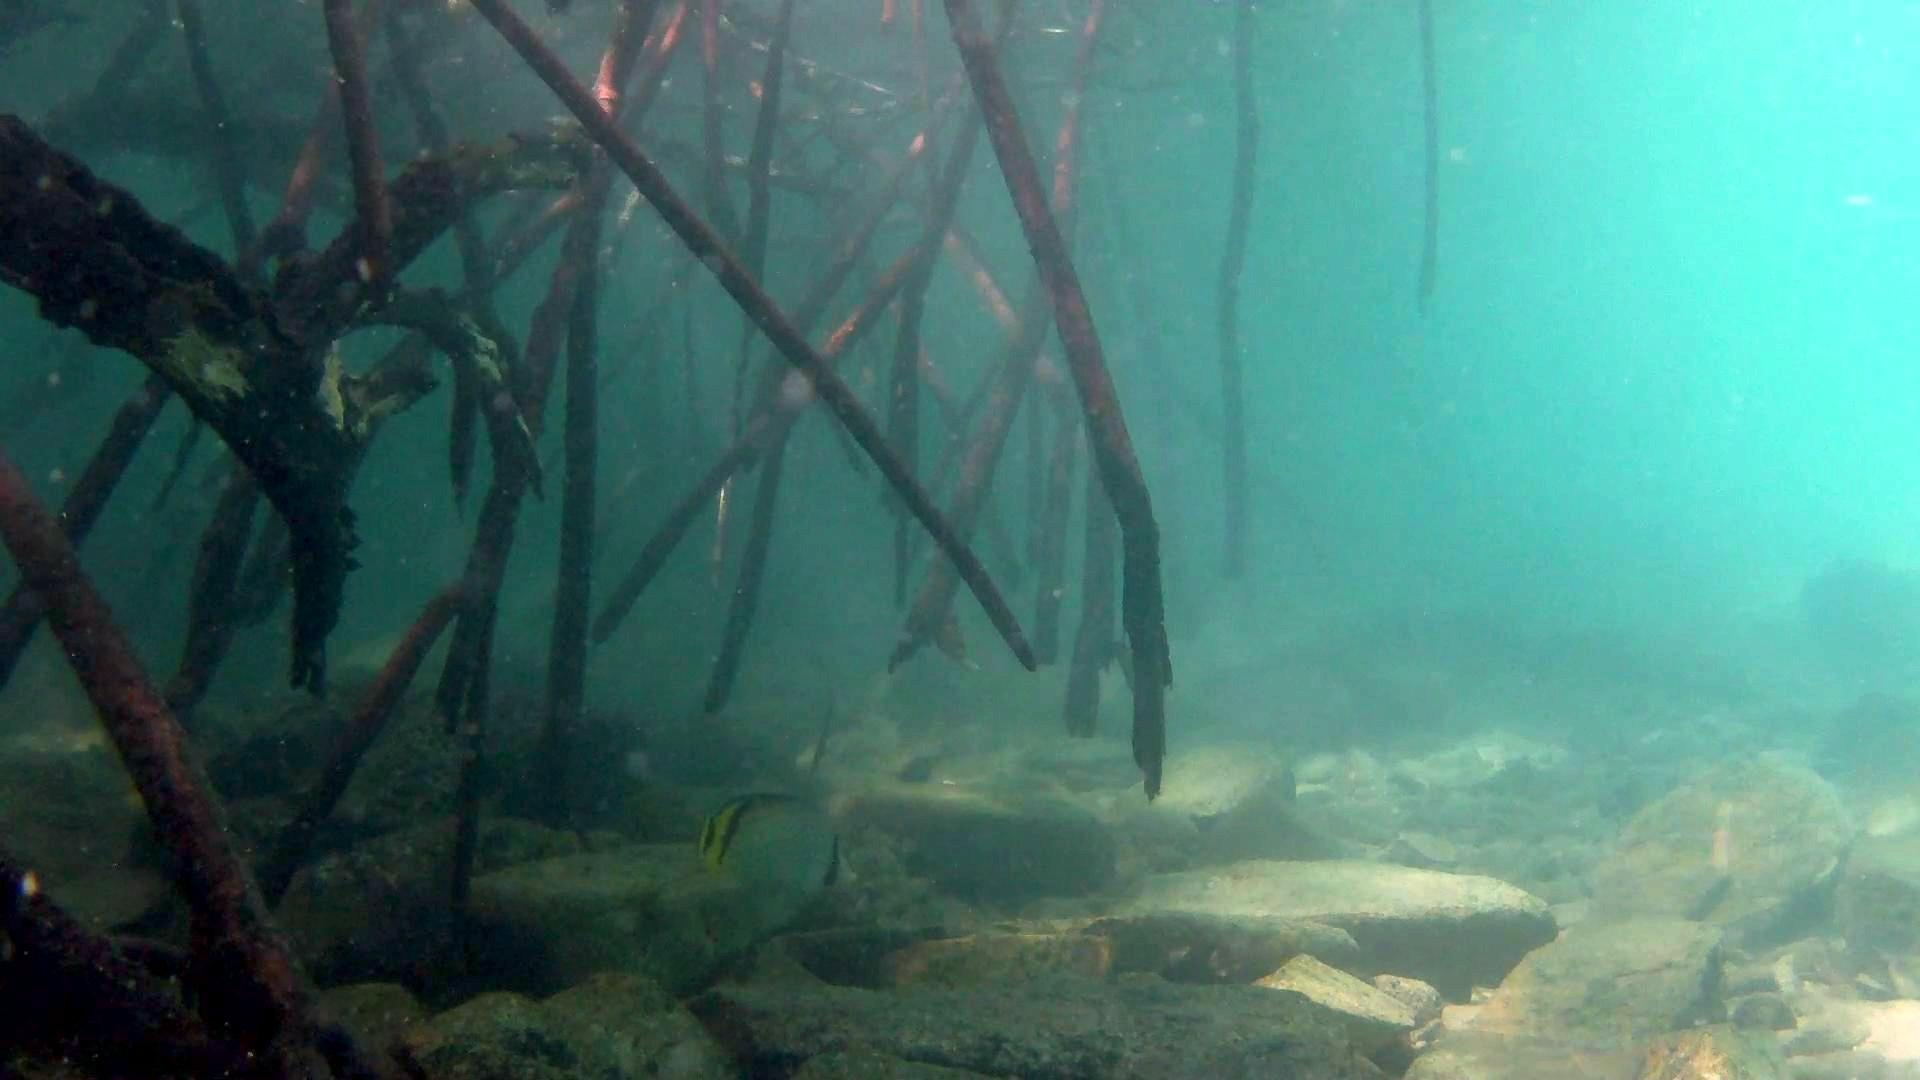chaetodon vagabundus: (694, 789, 864, 902)
